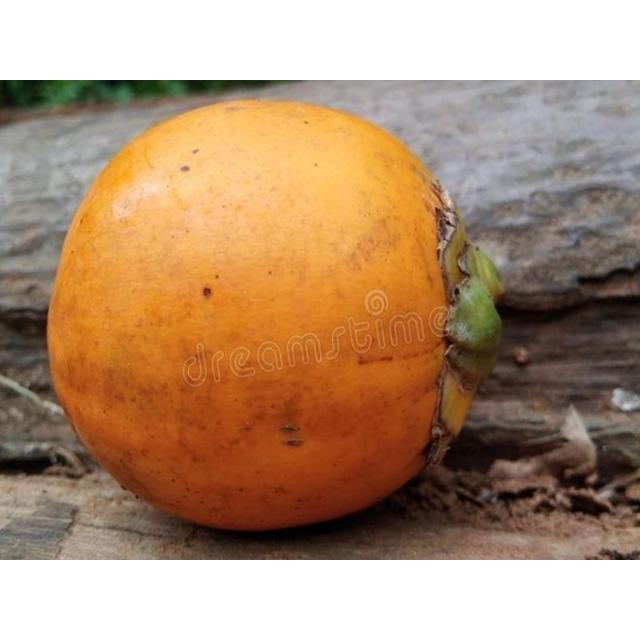good: (46, 100, 503, 536)
